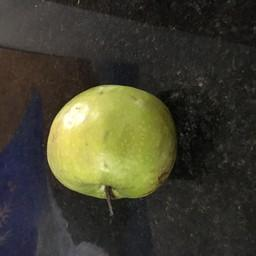Bad_apple: (46, 82, 181, 208)
